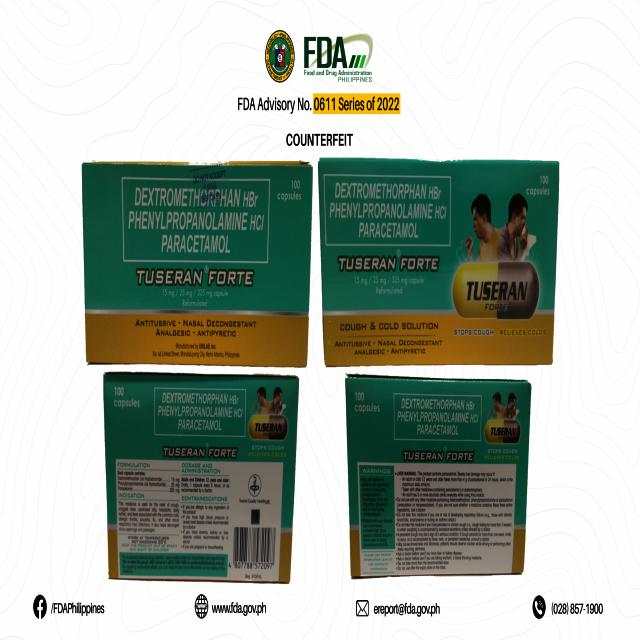counterfeit: (315, 154, 555, 362), (79, 163, 310, 368), (345, 376, 533, 580)
